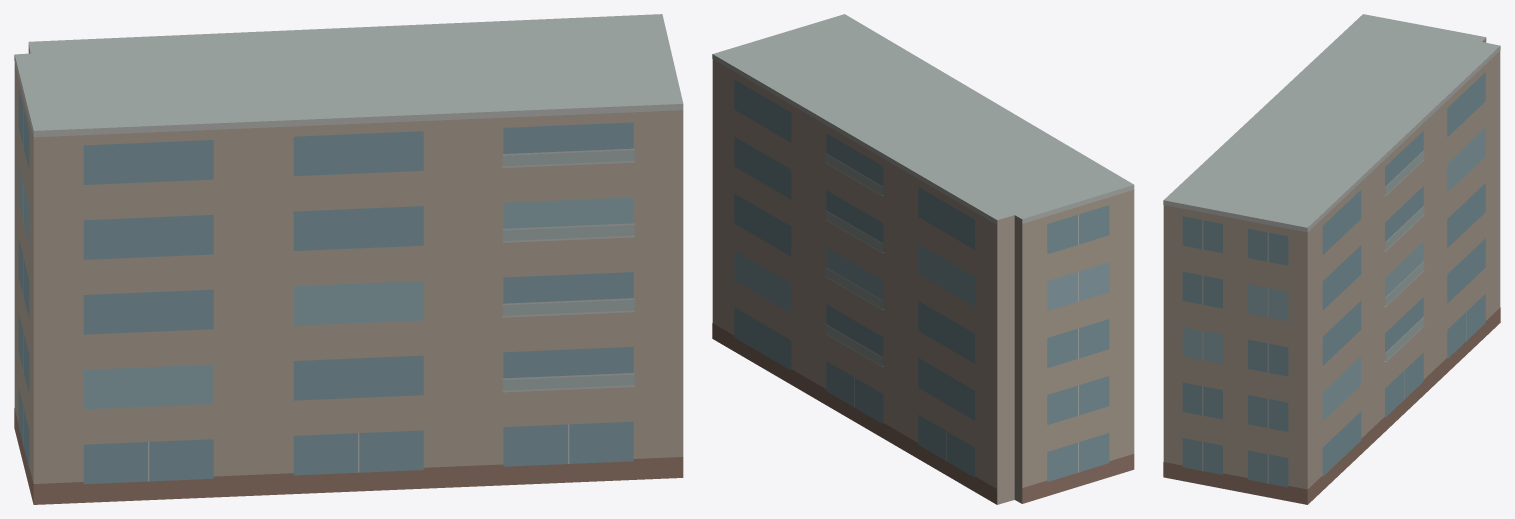
File: survey-upis-32531290.glb
3 views of the same model, side by side, from view 1: azimuth 30°, elevation 25°; view 2: azimuth 150°, elevation 25°; view 3: azimuth 270°, elevation 25° (orthographic). The views are drawn at different scales.
Visible parts, largest first — view 1: survey-upis-32531290.tmp; view 2: survey-upis-32531290.tmp; view 3: survey-upis-32531290.tmp.
Boxes of the visible parts, box(x1,y1,x2,y2) form: survey-upis-32531290.tmp: box(14, 14, 683, 504); survey-upis-32531290.tmp: box(712, 14, 1134, 504); survey-upis-32531290.tmp: box(1163, 14, 1500, 504).
Bounding box in the file's own units: 23.92 × 14.45 × 15.94.
